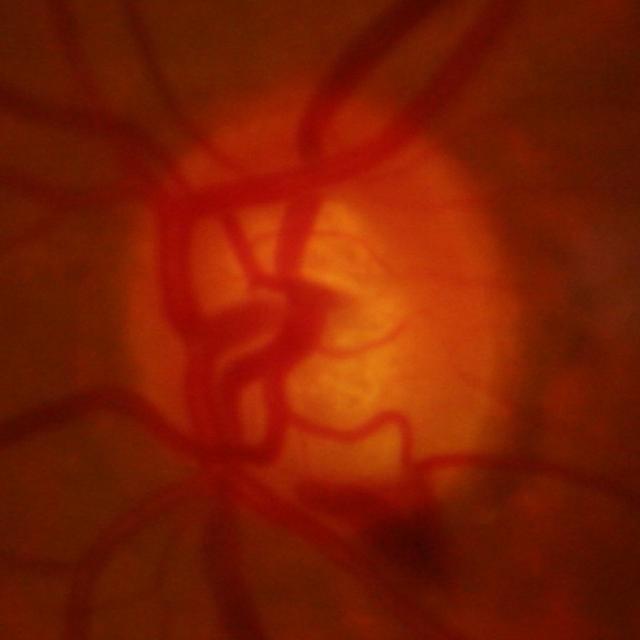OC: (214, 198, 416, 430)
OD: (117, 104, 513, 510)
